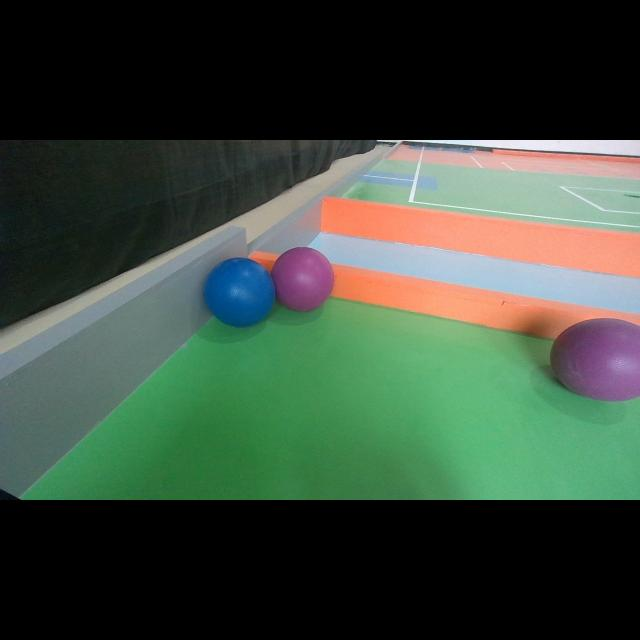B: (202, 257, 276, 327)
P: (550, 318, 640, 400), (270, 247, 334, 311)
